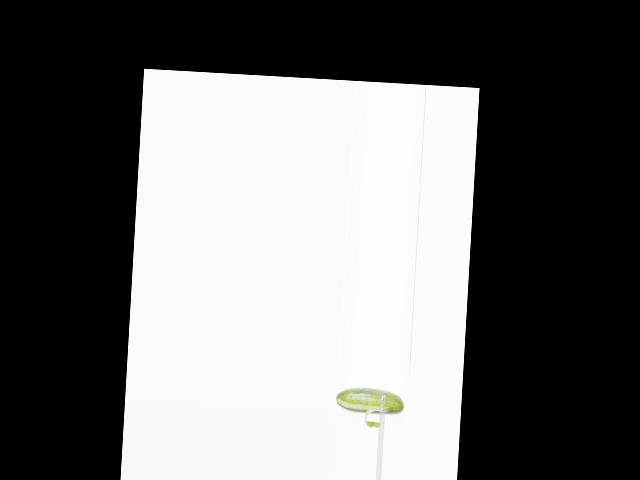cucumber: (335, 386, 405, 416)
